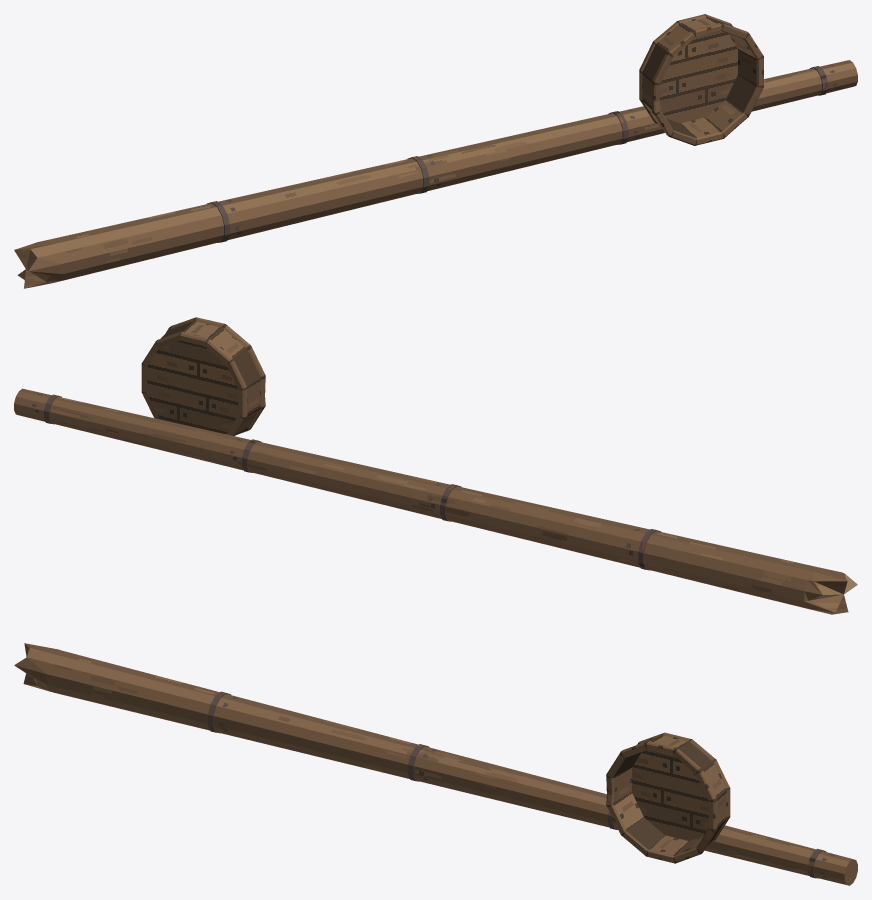
The picture shows the model from 3 angles, top to bottom: view 1: azimuth 30°, elevation 25°; view 2: azimuth 150°, elevation 25°; view 3: azimuth 330°, elevation 25°; orthographic projection.
Visible parts, largest first — view 1: matte_mainmast, metal_hoops; view 2: matte_mainmast, metal_hoops; view 3: matte_mainmast, metal_hoops.
Boxes of the visible parts, box(x1,y1,x2,y2) form: matte_mainmast: box(14, 14, 857, 288); metal_hoops: box(206, 66, 827, 242); matte_mainmast: box(14, 317, 857, 614); metal_hoops: box(44, 394, 661, 570); matte_mainmast: box(14, 643, 857, 885); metal_hoops: box(208, 691, 826, 878).
Bounding box in the file's own units: 12.5 × 1.67 × 0.9361.
1 material, 1 textured.
